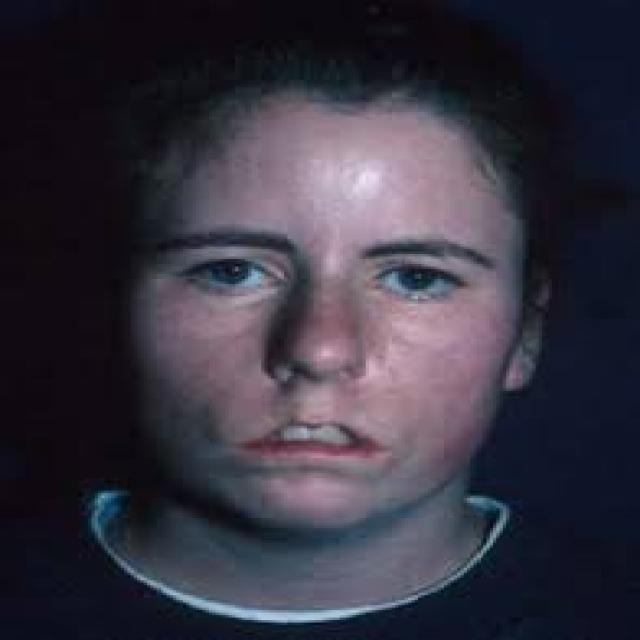stroke_face: (83, 21, 588, 576)
